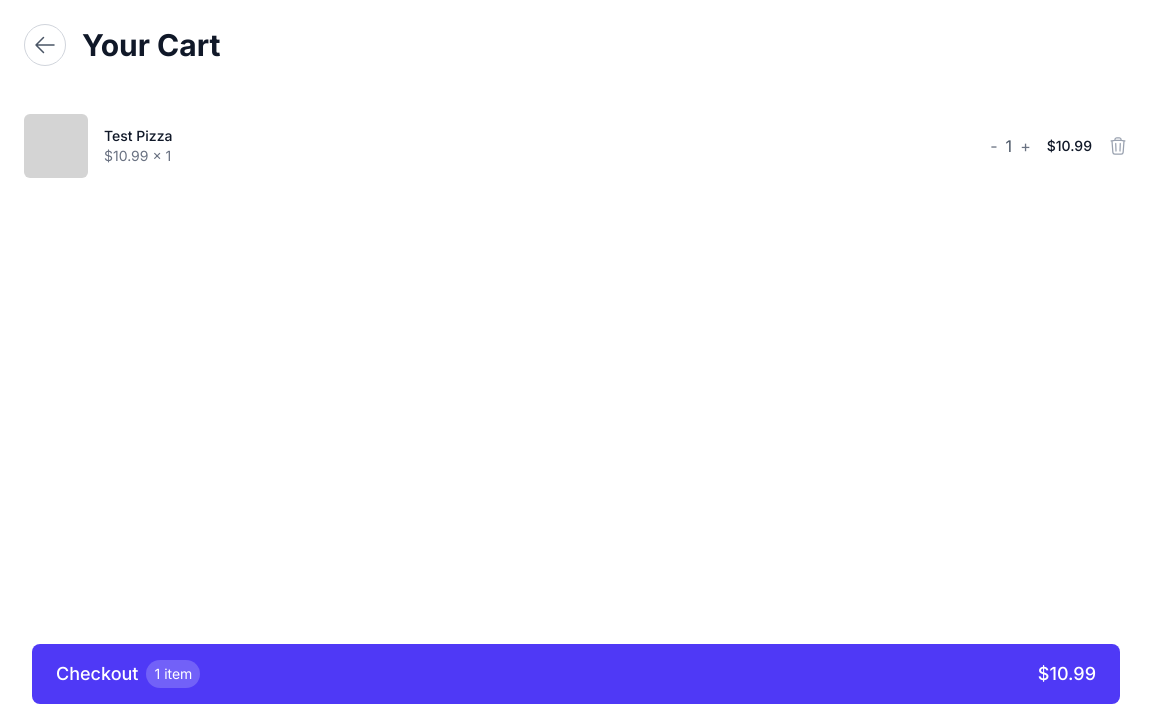
CartPage Component (Unit) › handles quantity updates correctly
Click the button named "increase quantity" at (1025, 146), box [1020,134,1031,158]
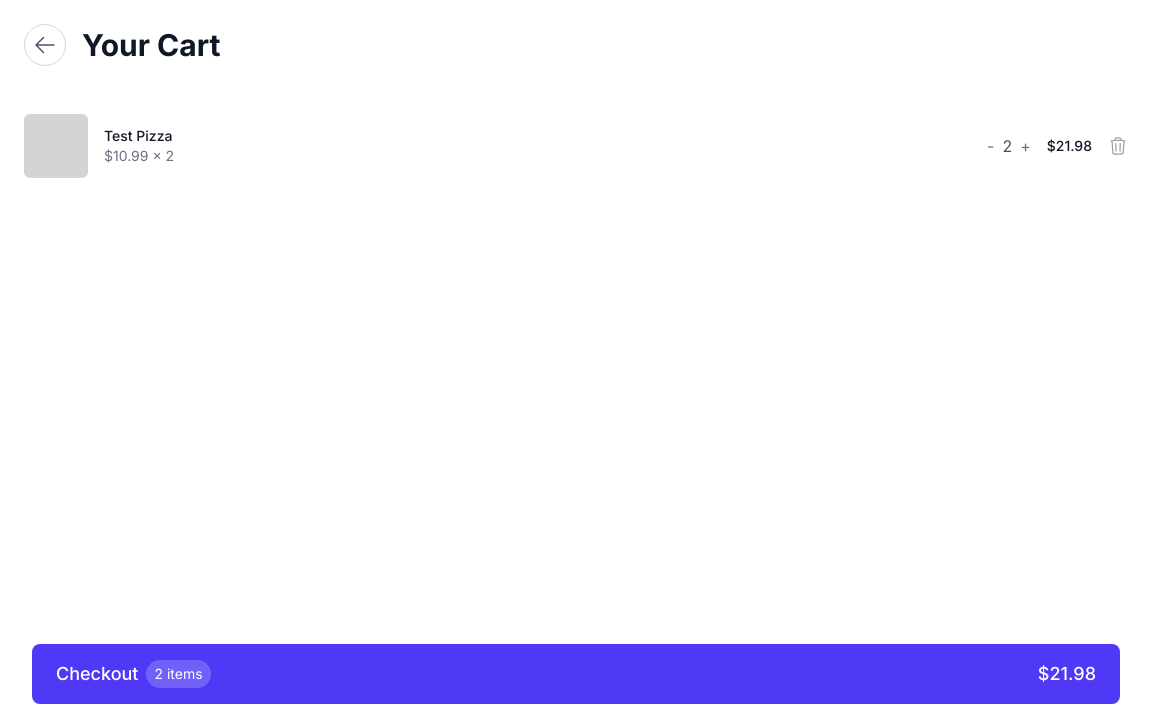
Result: the text "$10.99 x 2" is shown at [104,146,174,166]
Click the button named "decrease quantity" at (991, 146), box [987,134,994,158]
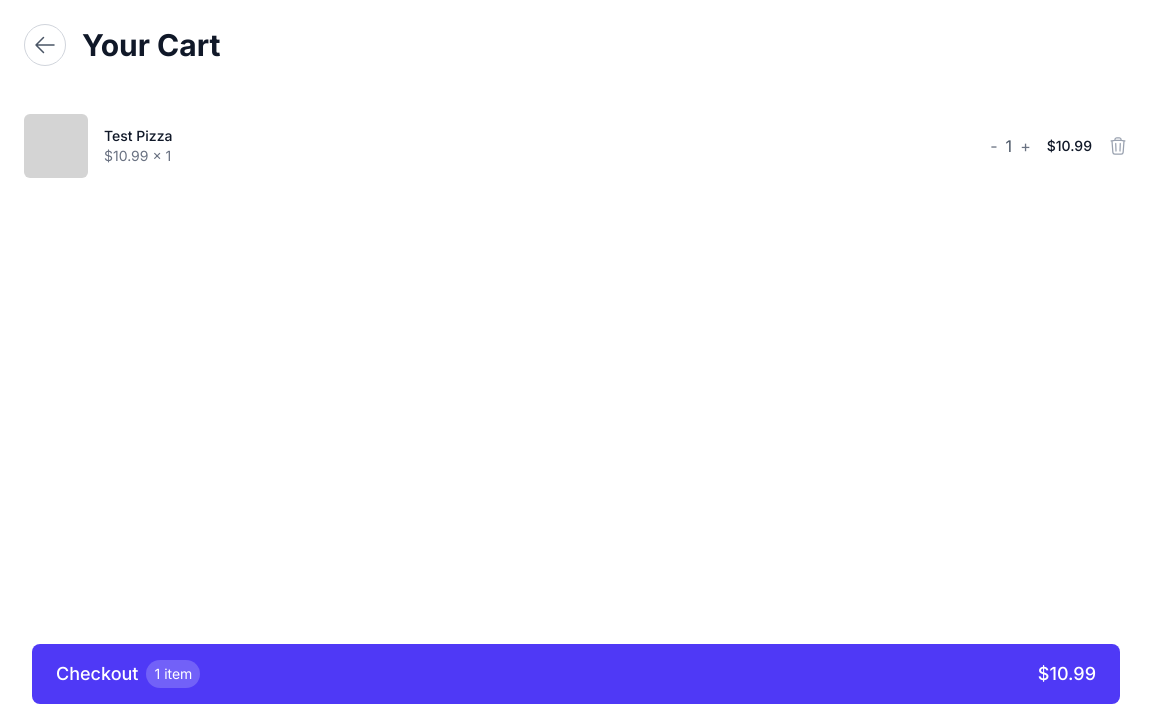
Result: the text "$10.99 x 1" is shown at [104,146,172,166]
